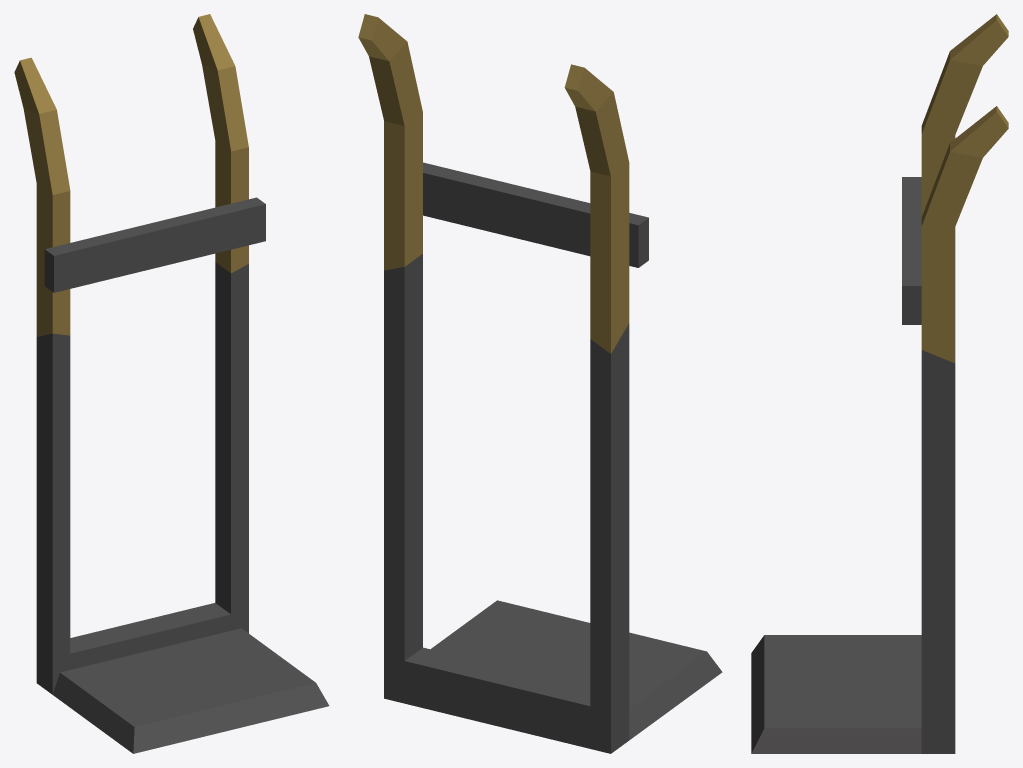
The model's file is SM_Prop_Rubbish_09.glb.
3 renders of one model, left to right at view 1: azimuth 30°, elevation 25°; view 2: azimuth 150°, elevation 25°; view 3: azimuth 270°, elevation 25°, orthographic. The views are drawn at different scales.
Visible parts, largest first — view 1: SM_Prop_Rubbish_09; view 2: SM_Prop_Rubbish_09; view 3: SM_Prop_Rubbish_09.
Part boxes in pixels (box(x1,y1,x2,y2)): SM_Prop_Rubbish_09: box(14, 14, 329, 753); SM_Prop_Rubbish_09: box(358, 14, 722, 753); SM_Prop_Rubbish_09: box(751, 14, 1008, 753).
Size of the model in its own units: 0.6138 by 1.68 by 0.6117.
1 material, 1 textured.
